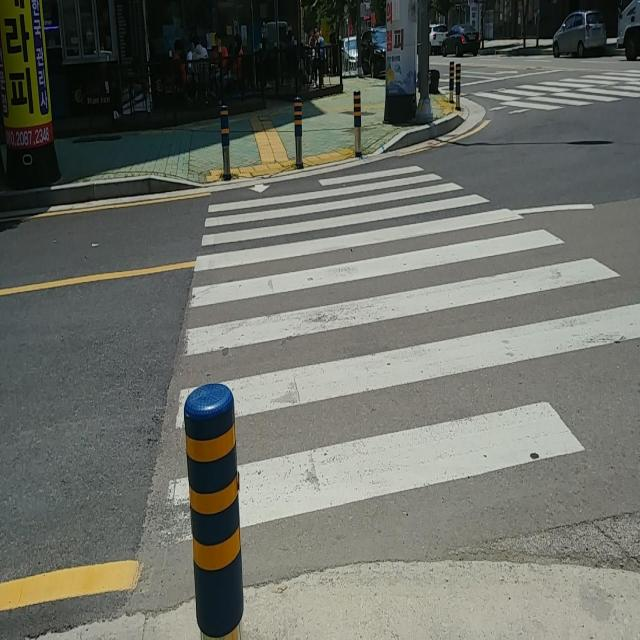횡단보도: (158, 151, 640, 554), (462, 68, 640, 115)
